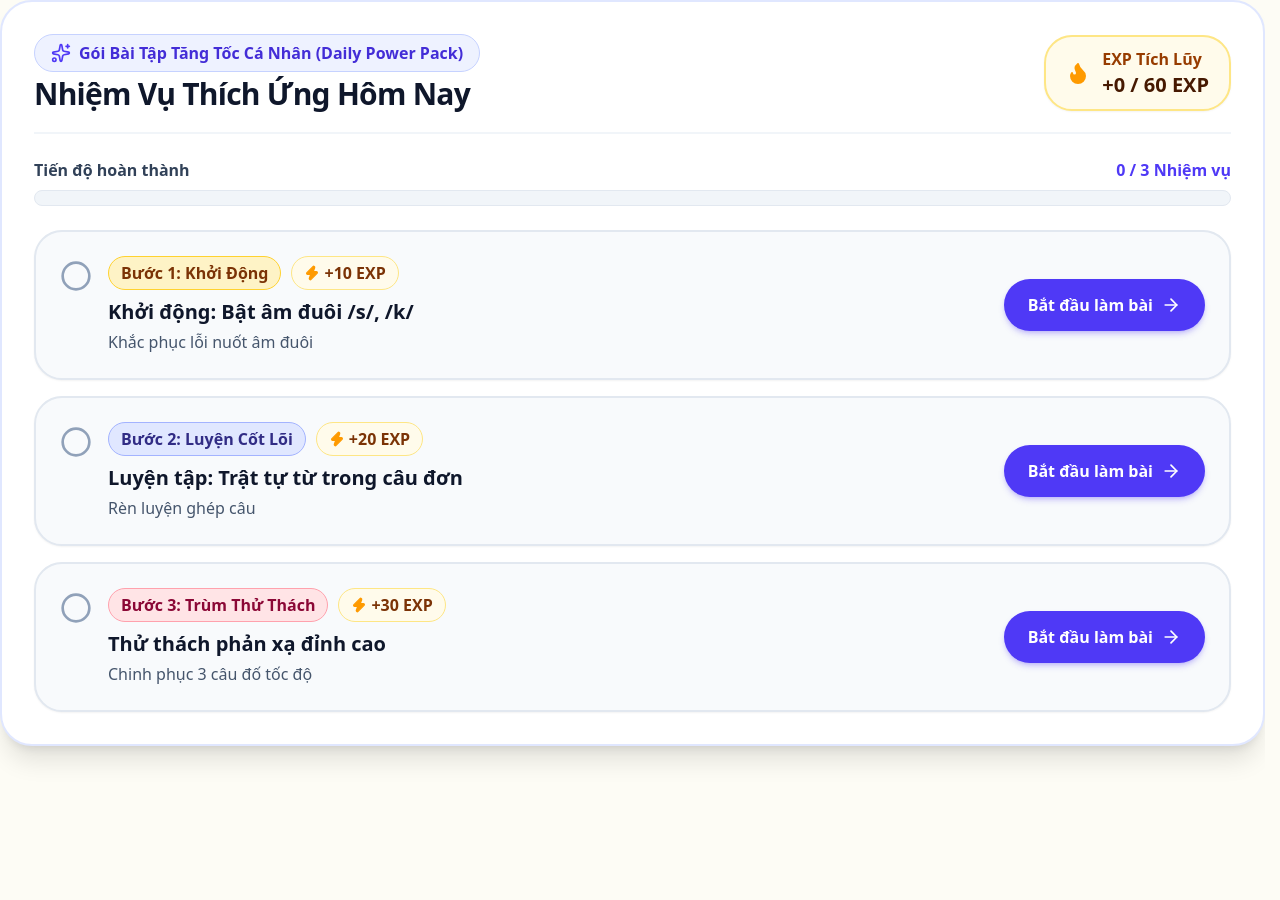
Test: AdaptivePowerPack Component › toggles step completion and updates EXP counter
The width and height of the screenshot is (1280, 900).
Expected: the text "+0 / 60 EXP" is shown, [1102, 71, 1209, 98]
Click the button named "đánh dấu bước 1" at (76, 276), box [60, 260, 92, 292]
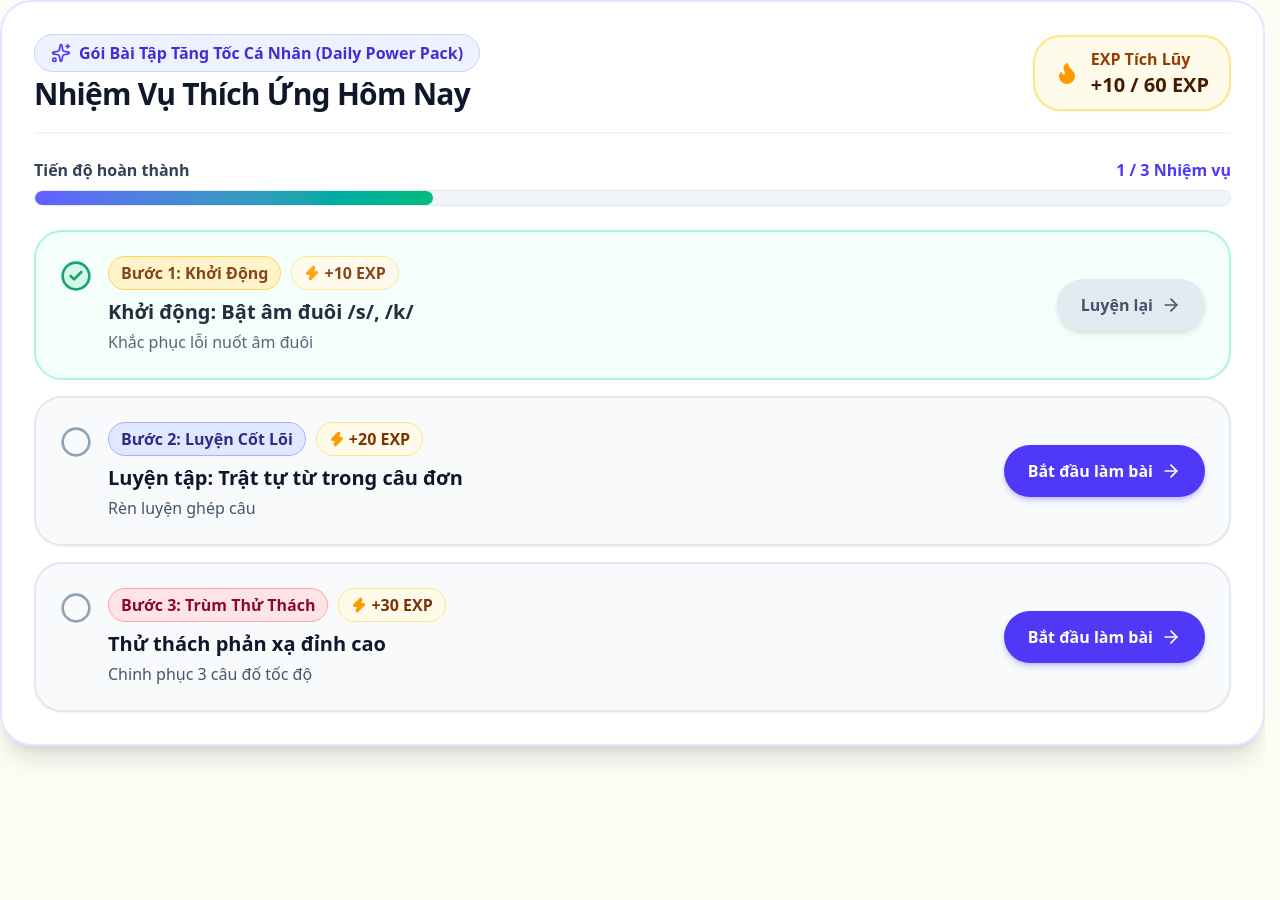
Result: the text "+10 / 60 EXP" is shown at [1091, 71, 1209, 98]
